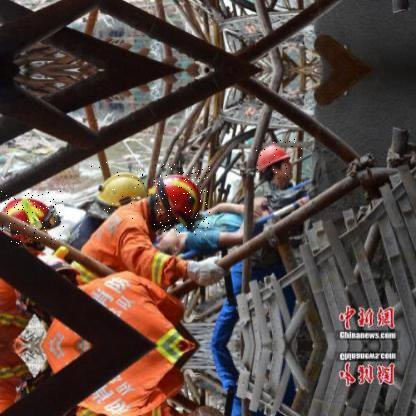safetyhelmet: (154, 164, 211, 238), (0, 190, 65, 246), (90, 162, 151, 220), (250, 138, 303, 180)
